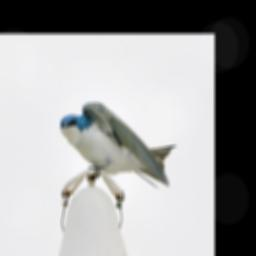Swallow: (60, 101, 178, 192)
